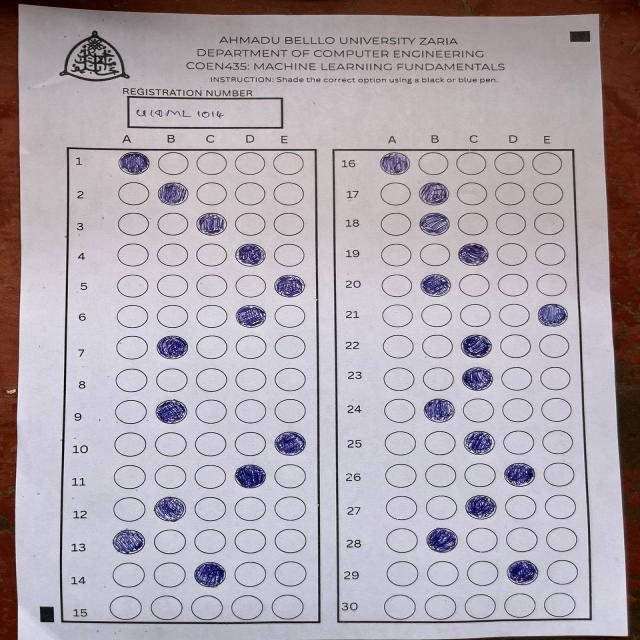bubble: (112, 528, 146, 554), (426, 527, 459, 553), (154, 496, 186, 522), (118, 151, 150, 176), (506, 560, 538, 585), (194, 562, 226, 587), (156, 335, 188, 359), (156, 399, 188, 423), (274, 432, 306, 456), (504, 462, 534, 487), (235, 464, 266, 488), (464, 430, 495, 454), (466, 495, 497, 519), (235, 243, 266, 267), (461, 334, 492, 358), (538, 303, 568, 327), (275, 274, 305, 298), (424, 398, 454, 422), (458, 243, 489, 266), (421, 274, 452, 297), (419, 212, 450, 235), (462, 367, 493, 390), (158, 182, 188, 205), (419, 182, 449, 205), (196, 212, 226, 235), (236, 305, 266, 327), (380, 152, 409, 174)
